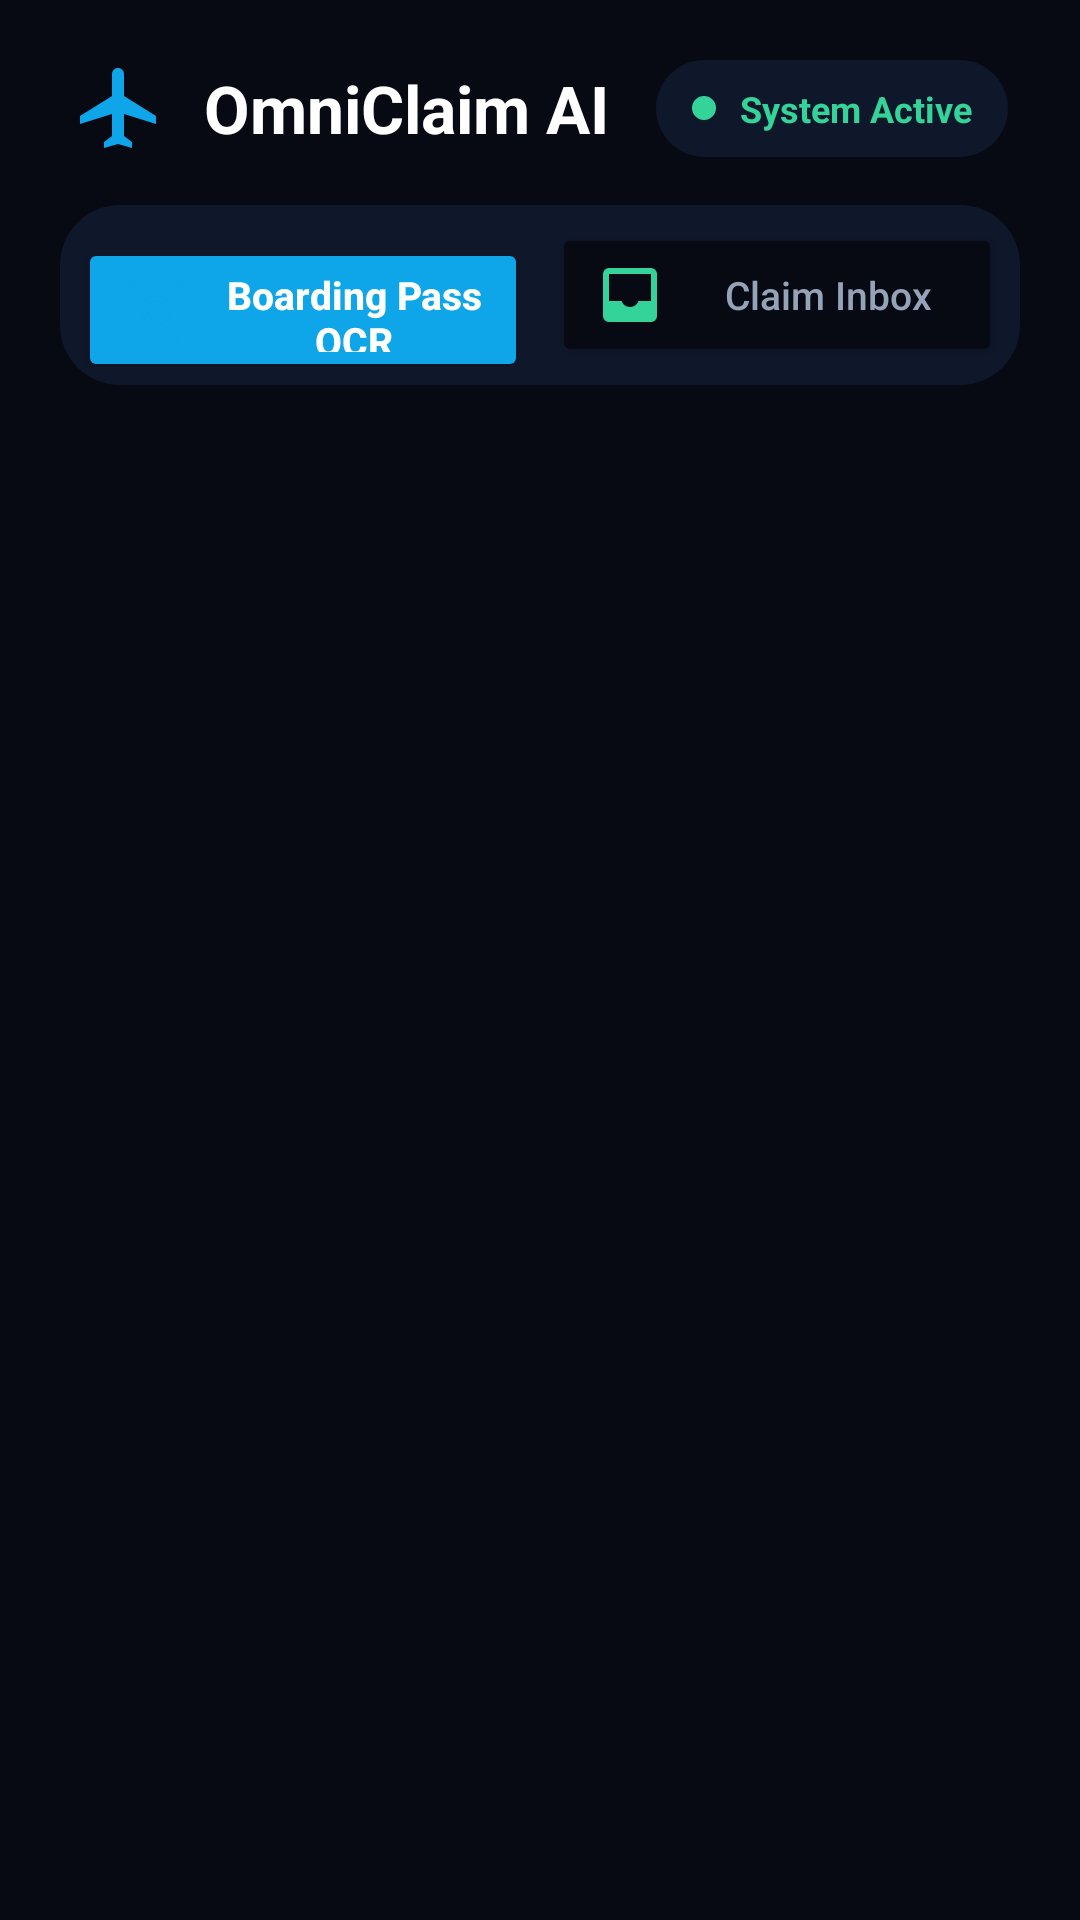

Point at icon controls on the screen. Image size 1080 × 1920, points as (x=x, y=y).
plane: (x=118, y=108)
